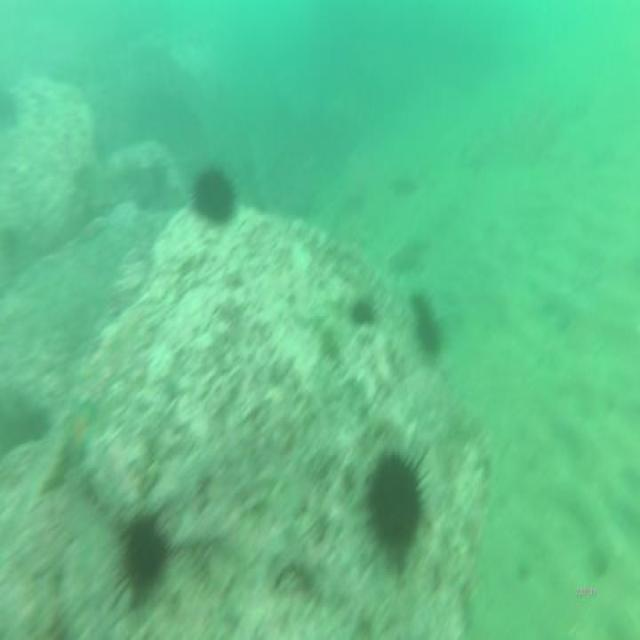echinus: (364, 448, 426, 568), (121, 504, 171, 605), (190, 159, 238, 234), (411, 292, 446, 357), (348, 296, 380, 336)
starfish: (58, 394, 98, 466)
